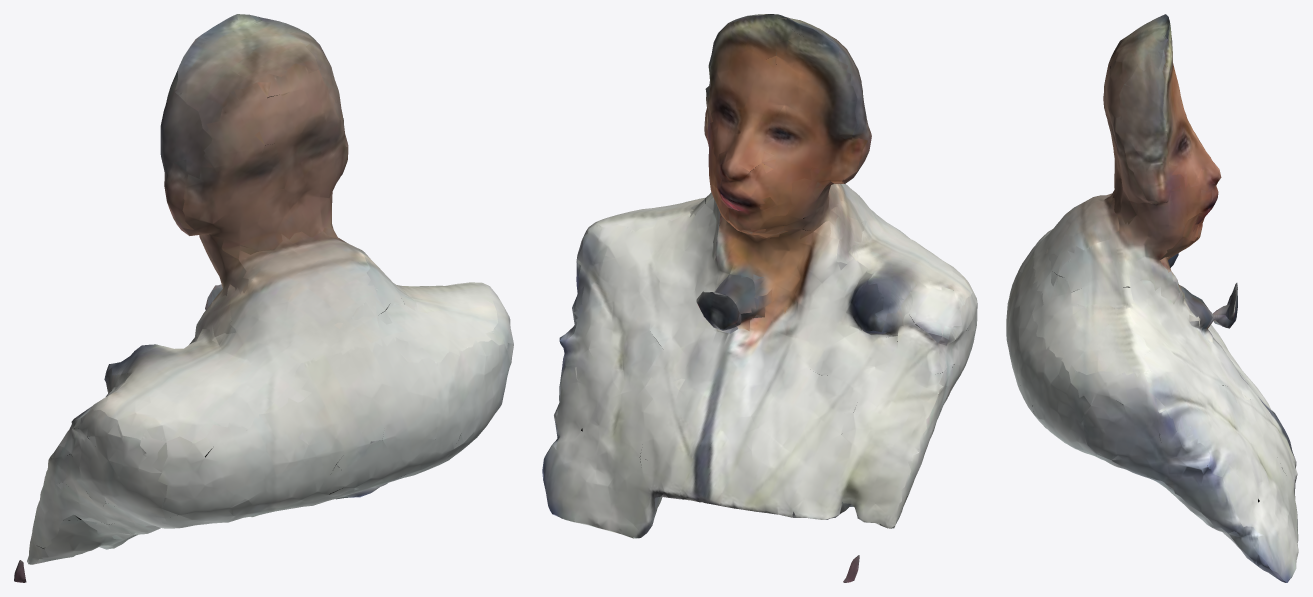
3 views of the same model, side by side, from view 1: azimuth 30°, elevation 25°; view 2: azimuth 150°, elevation 25°; view 3: azimuth 270°, elevation 25° (orthographic). The views are drawn at different scales.
Parts seen in each view (by area): view 1: world; view 2: world; view 3: world.
Boxes of the visible parts, left/top/right/bottom form: world: left=14, top=14, right=513, bottom=582; world: left=542, top=14, right=977, bottom=582; world: left=1006, top=14, right=1298, bottom=582.
Size of the model in its own units: 0.704 by 0.9029 by 0.4954.
Materials: 1 (1 with a texture image).
